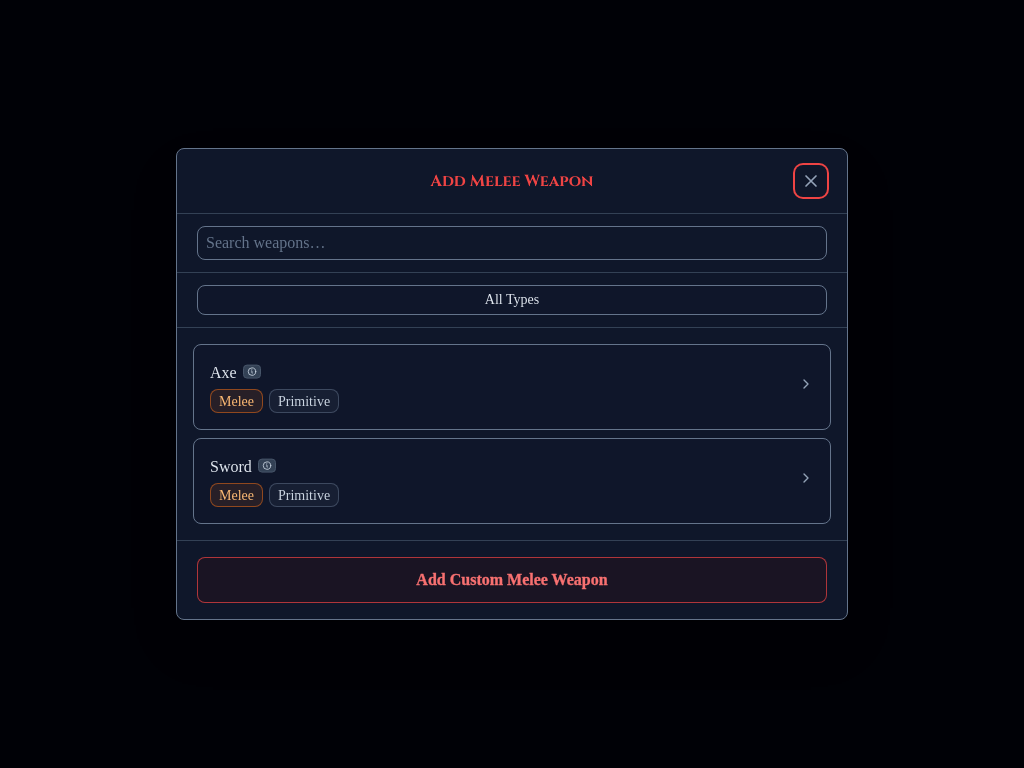
Scenario: MeleePicker › filters the list by search query
Type "Sw" into the search field with placeholder "Search weapons…".
click(512, 243); type("Sw")  # box [197,226,827,260]
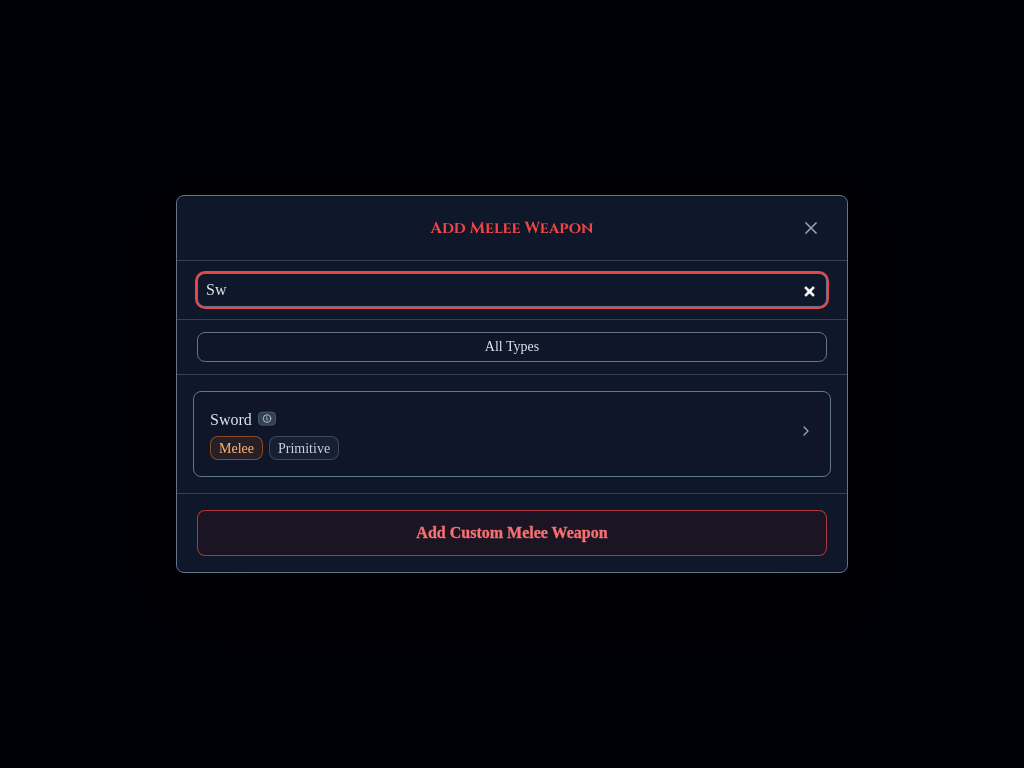
Expected: the text "Sword" is shown, [210,408,252,432]
Expected: the text "Axe" is gone
